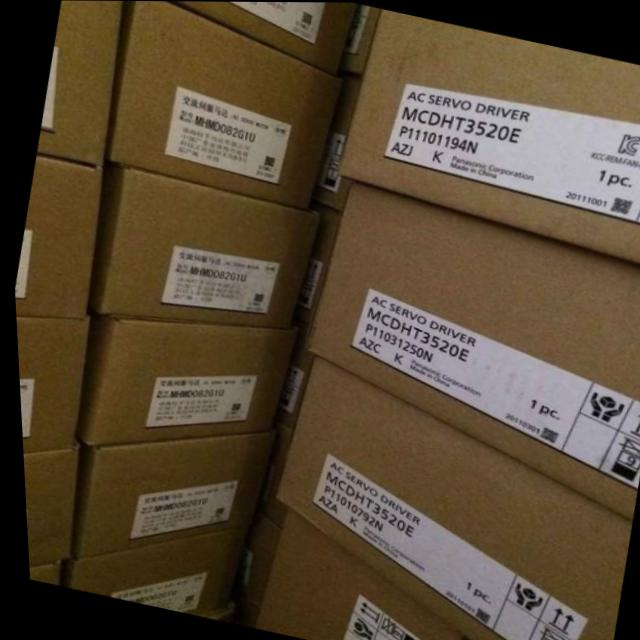box: (305, 180, 640, 521), (270, 353, 627, 640), (335, 8, 640, 263), (100, 1, 341, 210), (83, 159, 315, 328), (71, 313, 292, 445), (249, 507, 454, 640), (61, 430, 267, 556), (61, 523, 251, 616), (34, 0, 122, 167), (12, 155, 99, 318), (175, 1, 354, 72), (13, 313, 82, 453), (309, 72, 367, 212), (286, 201, 340, 348), (18, 448, 72, 566), (235, 513, 279, 627), (270, 330, 309, 429), (333, 3, 381, 73), (23, 558, 65, 586)
